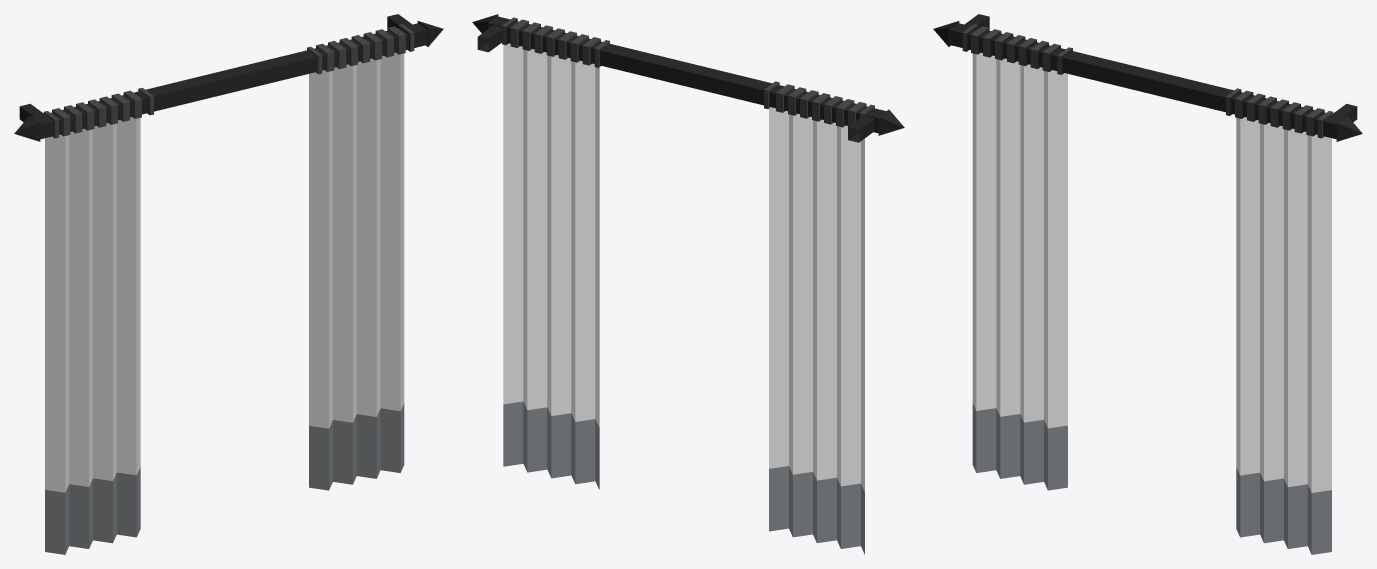
File: Curtain_1A.fbx
3 renders of one model, left to right at view 1: azimuth 30°, elevation 25°; view 2: azimuth 150°, elevation 25°; view 3: azimuth 330°, elevation 25°, orthographic.
Visible parts, largest first — view 1: polySurface1558; view 2: polySurface1558; view 3: polySurface1558.
Part boxes in pixels (bbox=[...]): polySurface1558: bbox=[14, 14, 443, 554]; polySurface1558: bbox=[472, 14, 904, 554]; polySurface1558: bbox=[933, 14, 1362, 554].
Bounding box in the file's own units: 3.16 × 3.08 × 0.3278.
Materials: 1 (1 with a texture image).
